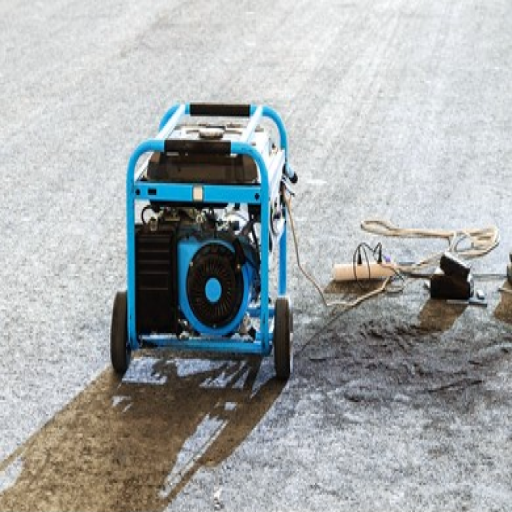portable_generator: (126, 101, 289, 356)
